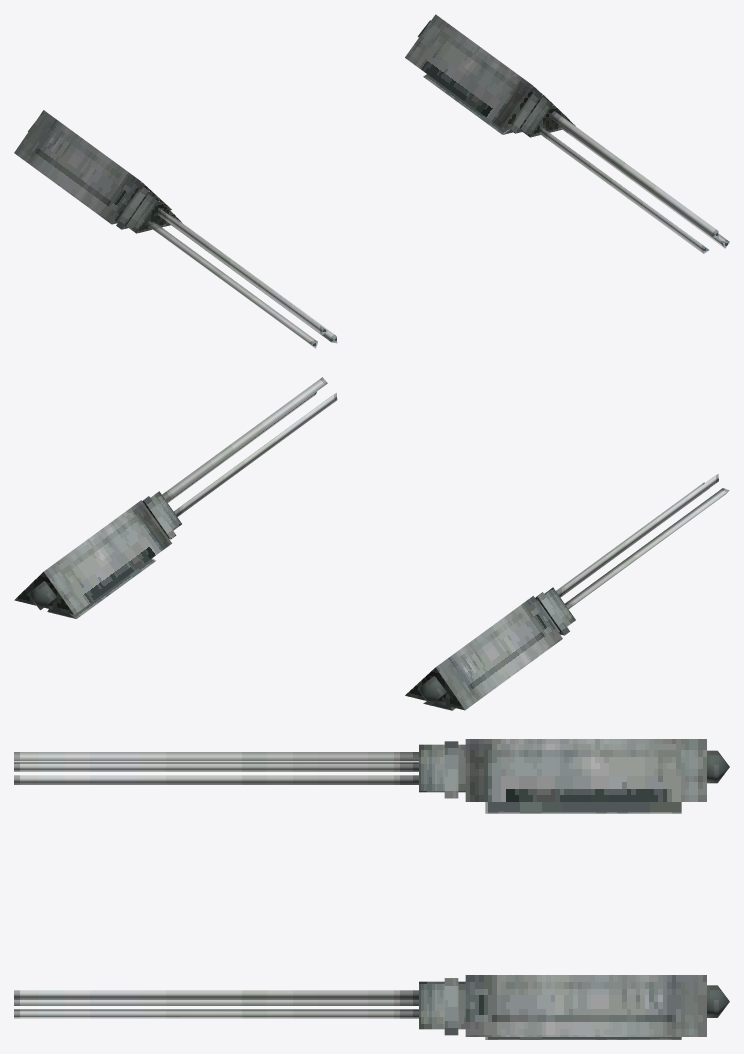
File: black_sun_fighter_heavy_weapon1_s04_l2.fbx
3 renders of one model, top to bottom at view 1: azimuth 30°, elevation 25°; view 2: azimuth 150°, elevation 25°; view 3: azimuth 270°, elevation 25°, orthographic. The views are drawn at different scales.
Visible parts, largest first — view 1: mesh_node; view 2: mesh_node; view 3: mesh_node.
Boxes of the visible parts, <box> form: mesh_node: <box>14,14,729,348</box>; mesh_node: <box>14,377,729,710</box>; mesh_node: <box>14,739,729,1039</box>.
Bounding box in the file's own units: 3.2 × 0.3348 × 3.56.
Materials: 1 (1 with a texture image).
